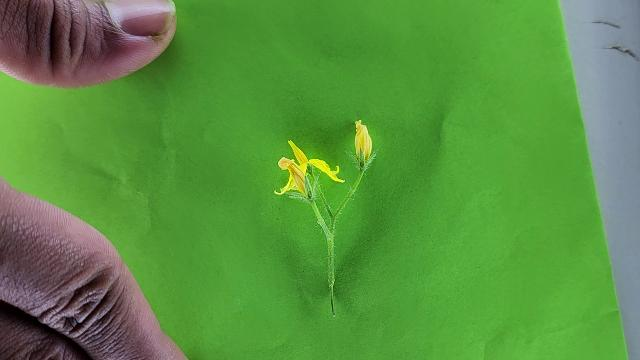Anthesis: (274, 138, 343, 197), (354, 119, 373, 163)
